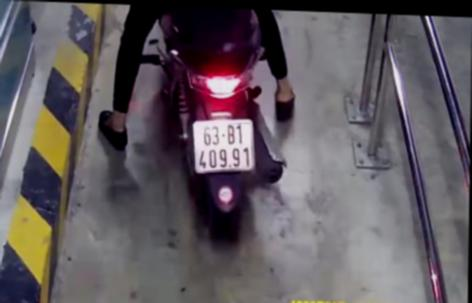License_Plate: (189, 115, 258, 180)
